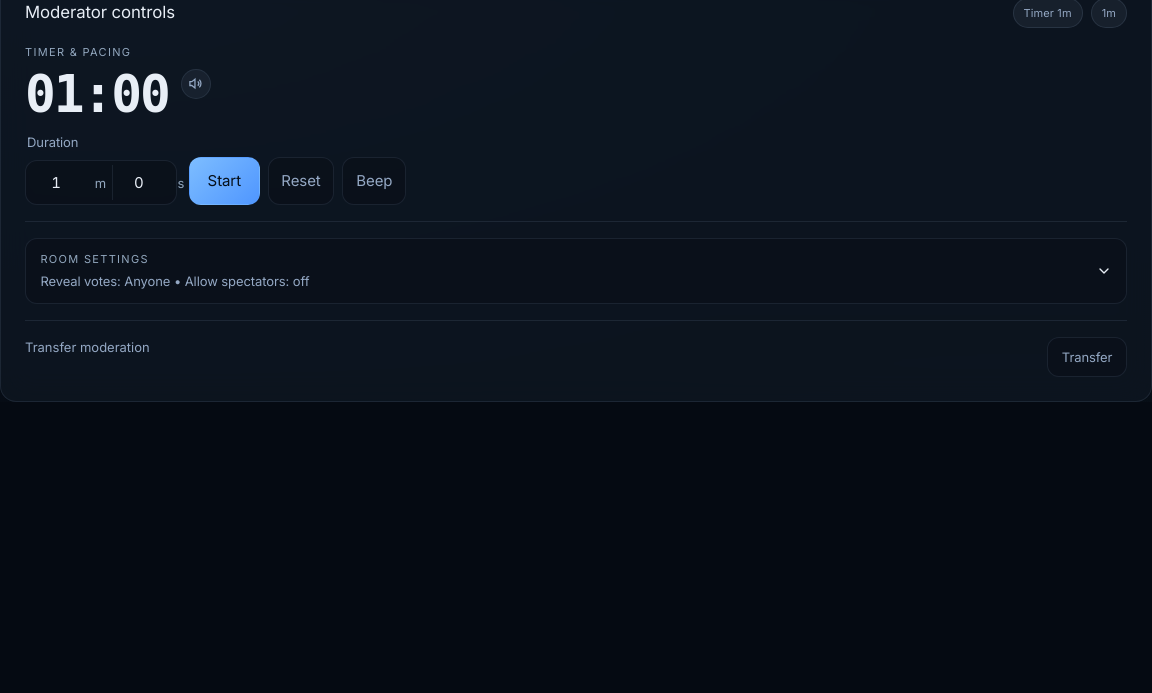
Test: ModeratorControls › shows room settings for moderators and renders values from room state
Click the button "Room settings Reveal votes: Anyone • Allow spectators: off". click: coordinates (95, 259)
box: [25,238,1127,304]
(page scrolled)
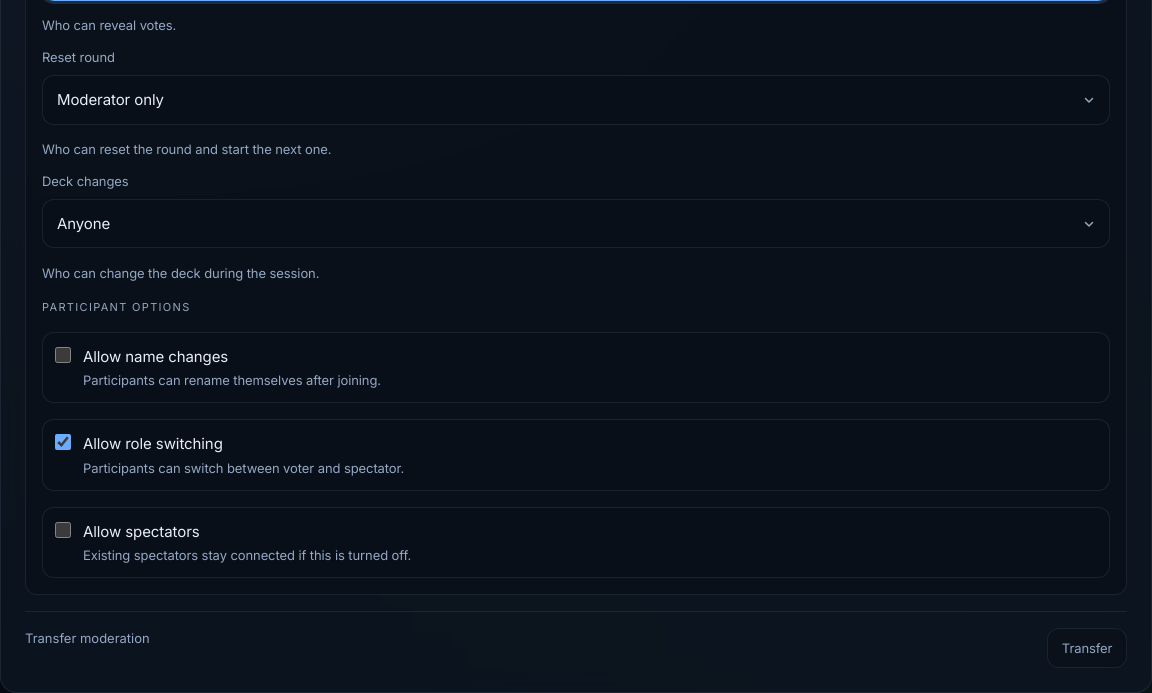
Expected: the dropdown labelled "Reset round Who can reset the round and start the next one." shows "Moderator only", [42,75,1110,125]
Expected: the dropdown labelled "Deck changes Who can change the deck during the session." shows "Anyone", [42,199,1110,248]
Expected: the checkbox labelled "Allow name changes" is not checked, [55,347,71,363]
